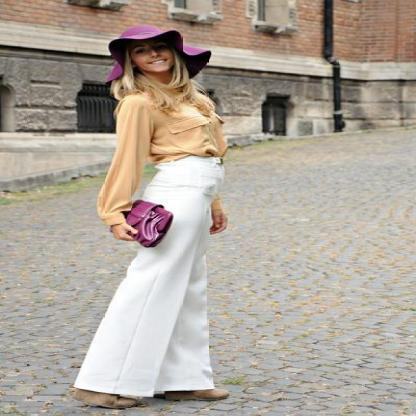bag: (116, 200, 172, 253)
hat: (88, 23, 222, 82)
pants: (74, 157, 229, 396)
shirt: (97, 89, 239, 224)
shoe: (73, 388, 228, 409)
